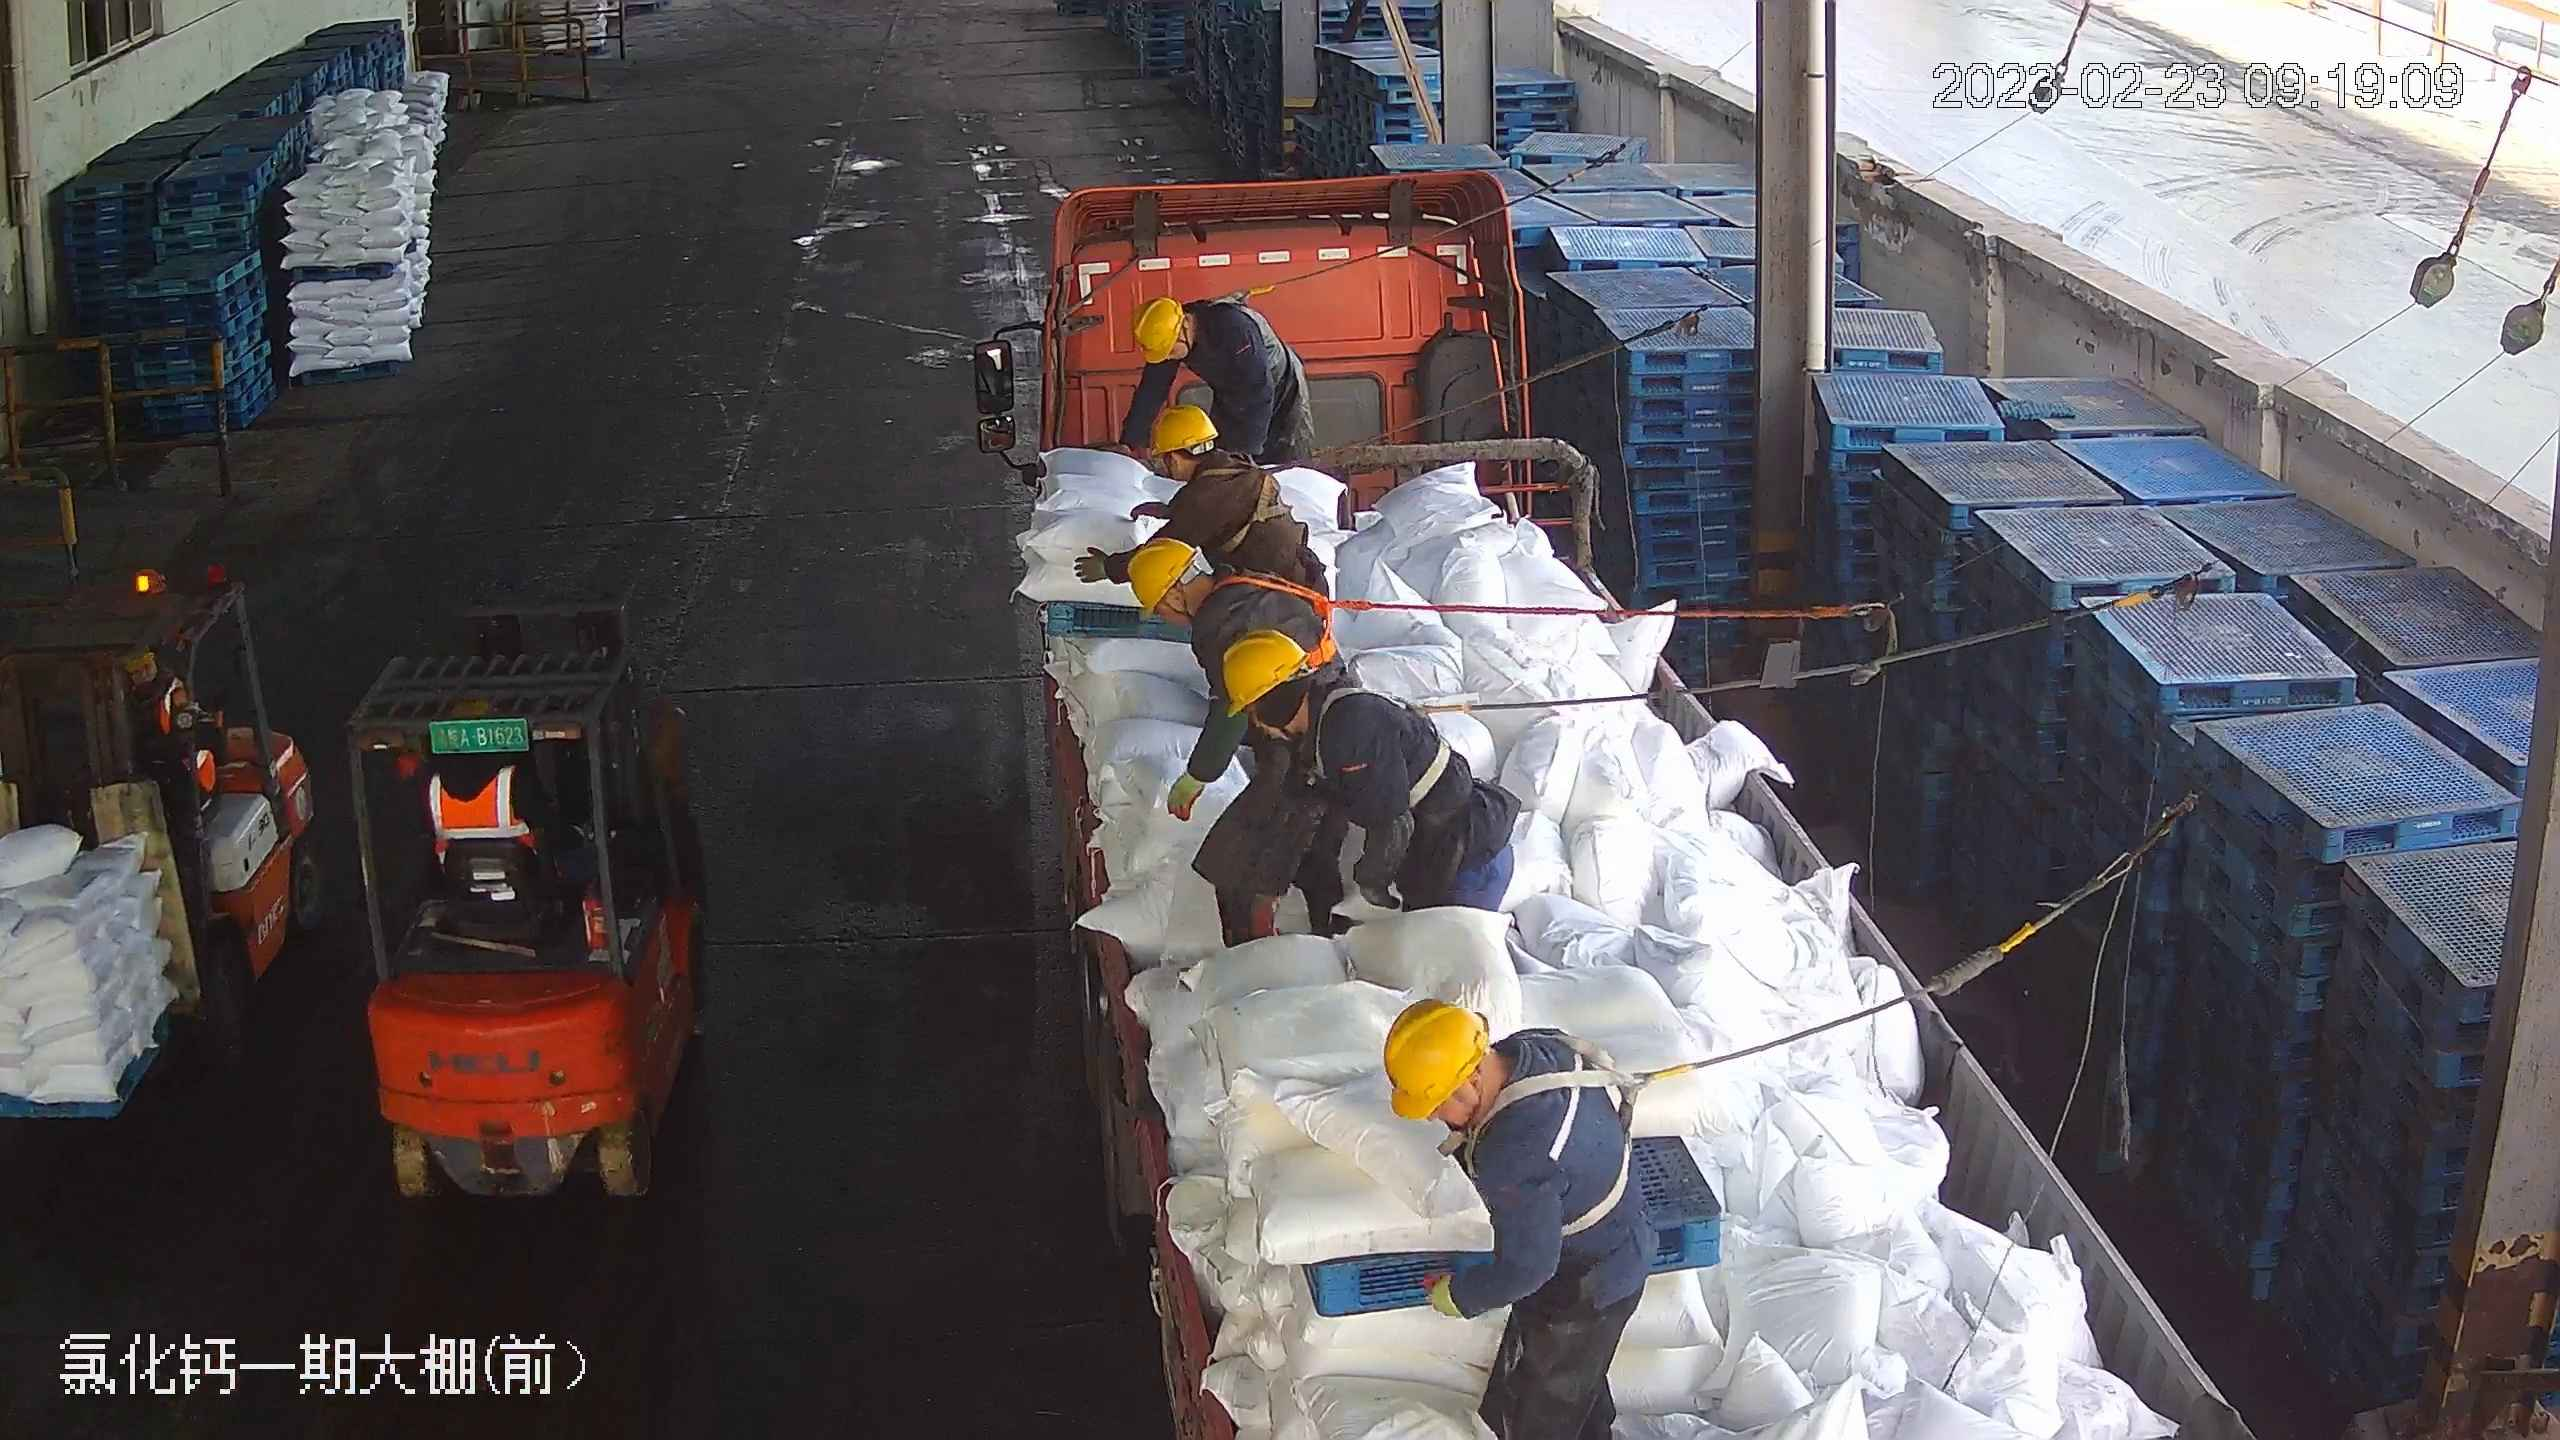belt: (1426, 1040, 1690, 1241), (1302, 679, 1478, 807), (1219, 568, 1363, 662), (1195, 455, 1322, 551), (1200, 286, 1284, 334)
head: (1391, 997, 1592, 1206), (1233, 633, 1410, 778), (1123, 538, 1282, 668), (1146, 403, 1276, 526), (1132, 293, 1254, 377)
helmet: (1383, 999, 1491, 1121), (1221, 629, 1310, 717), (1129, 536, 1198, 617), (1144, 401, 1221, 456), (1133, 295, 1186, 362)
people: (1394, 1003, 1638, 1440), (1125, 553, 1361, 950), (1229, 629, 1511, 921), (1140, 410, 1323, 608), (1120, 291, 1310, 466)
truck: (978, 159, 2265, 1434)
